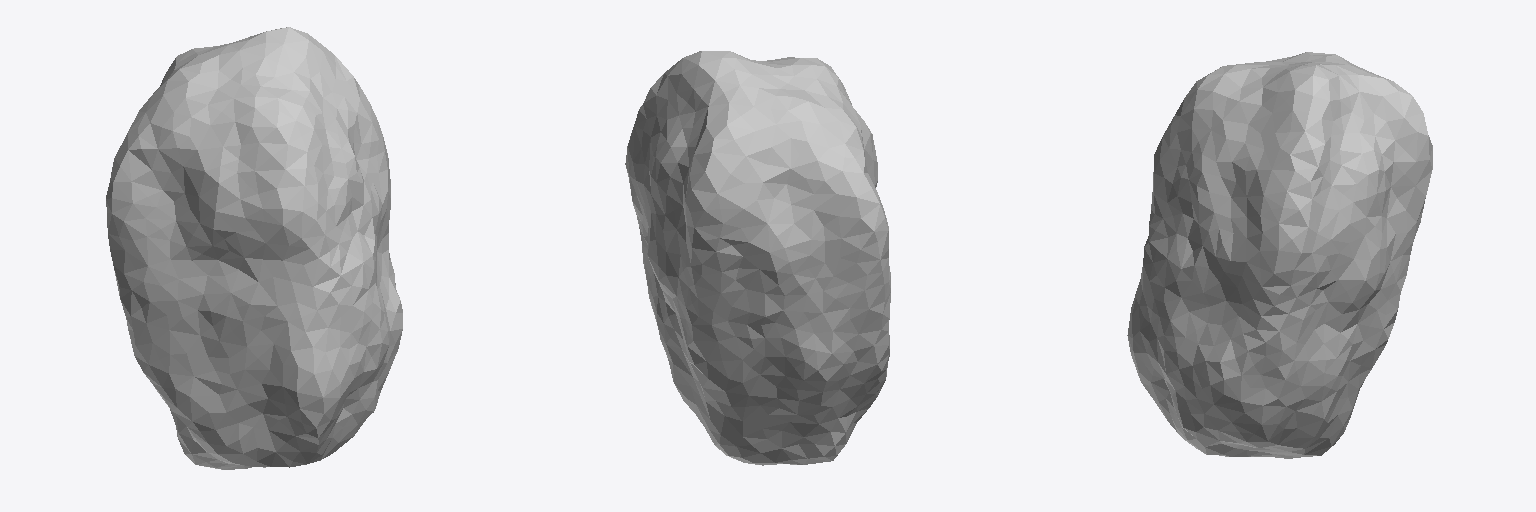
Rendered from Square 1.obj.
3 views of the same model, side by side, from view 1: azimuth 30°, elevation 25°; view 2: azimuth 150°, elevation 25°; view 3: azimuth 270°, elevation 25° (orthographic).
Parts seen in each view (by area): view 1: Square_1_Icosphere.002; view 2: Square_1_Icosphere.002; view 3: Square_1_Icosphere.002.
Boxes of the visible parts, x1,y1,x2,y2 form: Square_1_Icosphere.002: [106, 27, 402, 469]; Square_1_Icosphere.002: [625, 51, 890, 465]; Square_1_Icosphere.002: [1127, 52, 1432, 458].
Bounding box in the file's own units: 3.69 × 5.47 × 3.69.